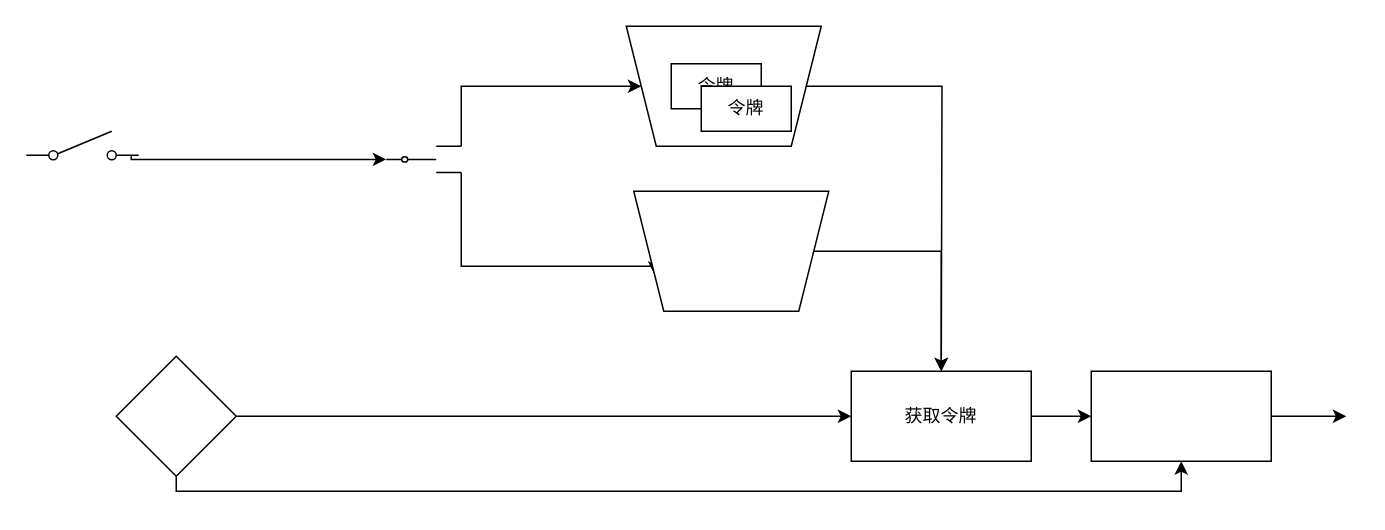
The diagram is 1385 pixels wide and 530 high, and some of its shapes have lost their labels. The shapes that lost their labels are listed below. From the top down, each one's centre as x and y in pixels, then its label:
point (175, 415): 限流？
point (1180, 415): 请求处理
